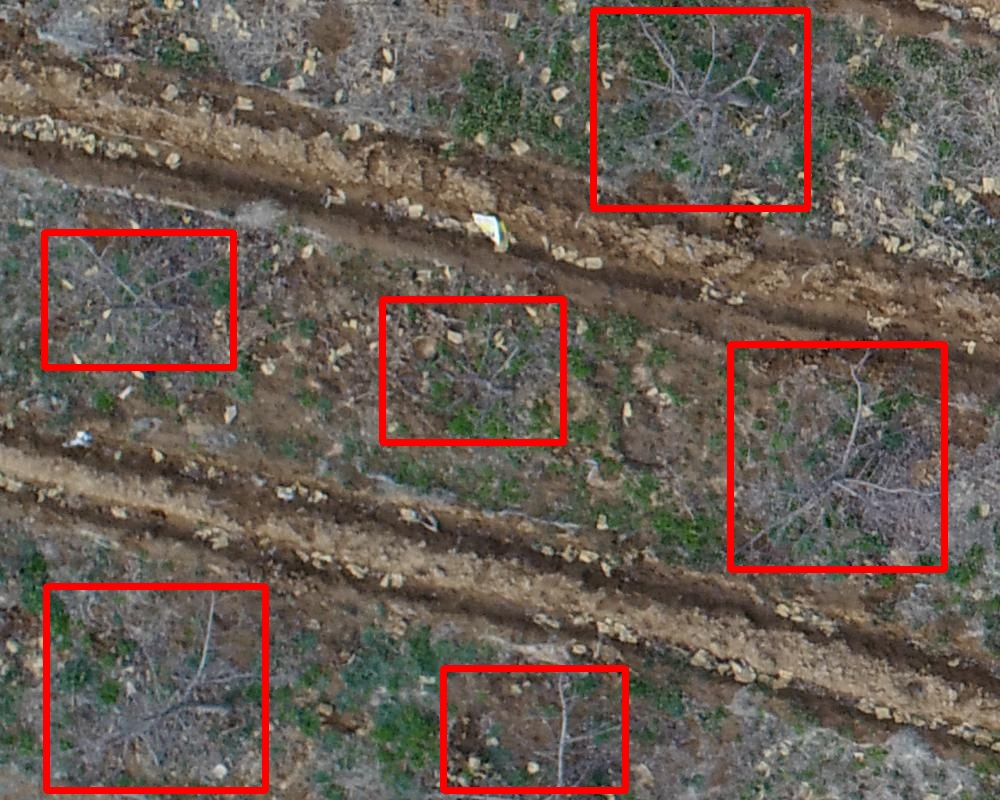apple: (730, 344, 944, 569), (46, 586, 265, 790), (593, 10, 807, 208), (382, 299, 563, 442), (44, 232, 233, 367), (443, 668, 625, 790)
